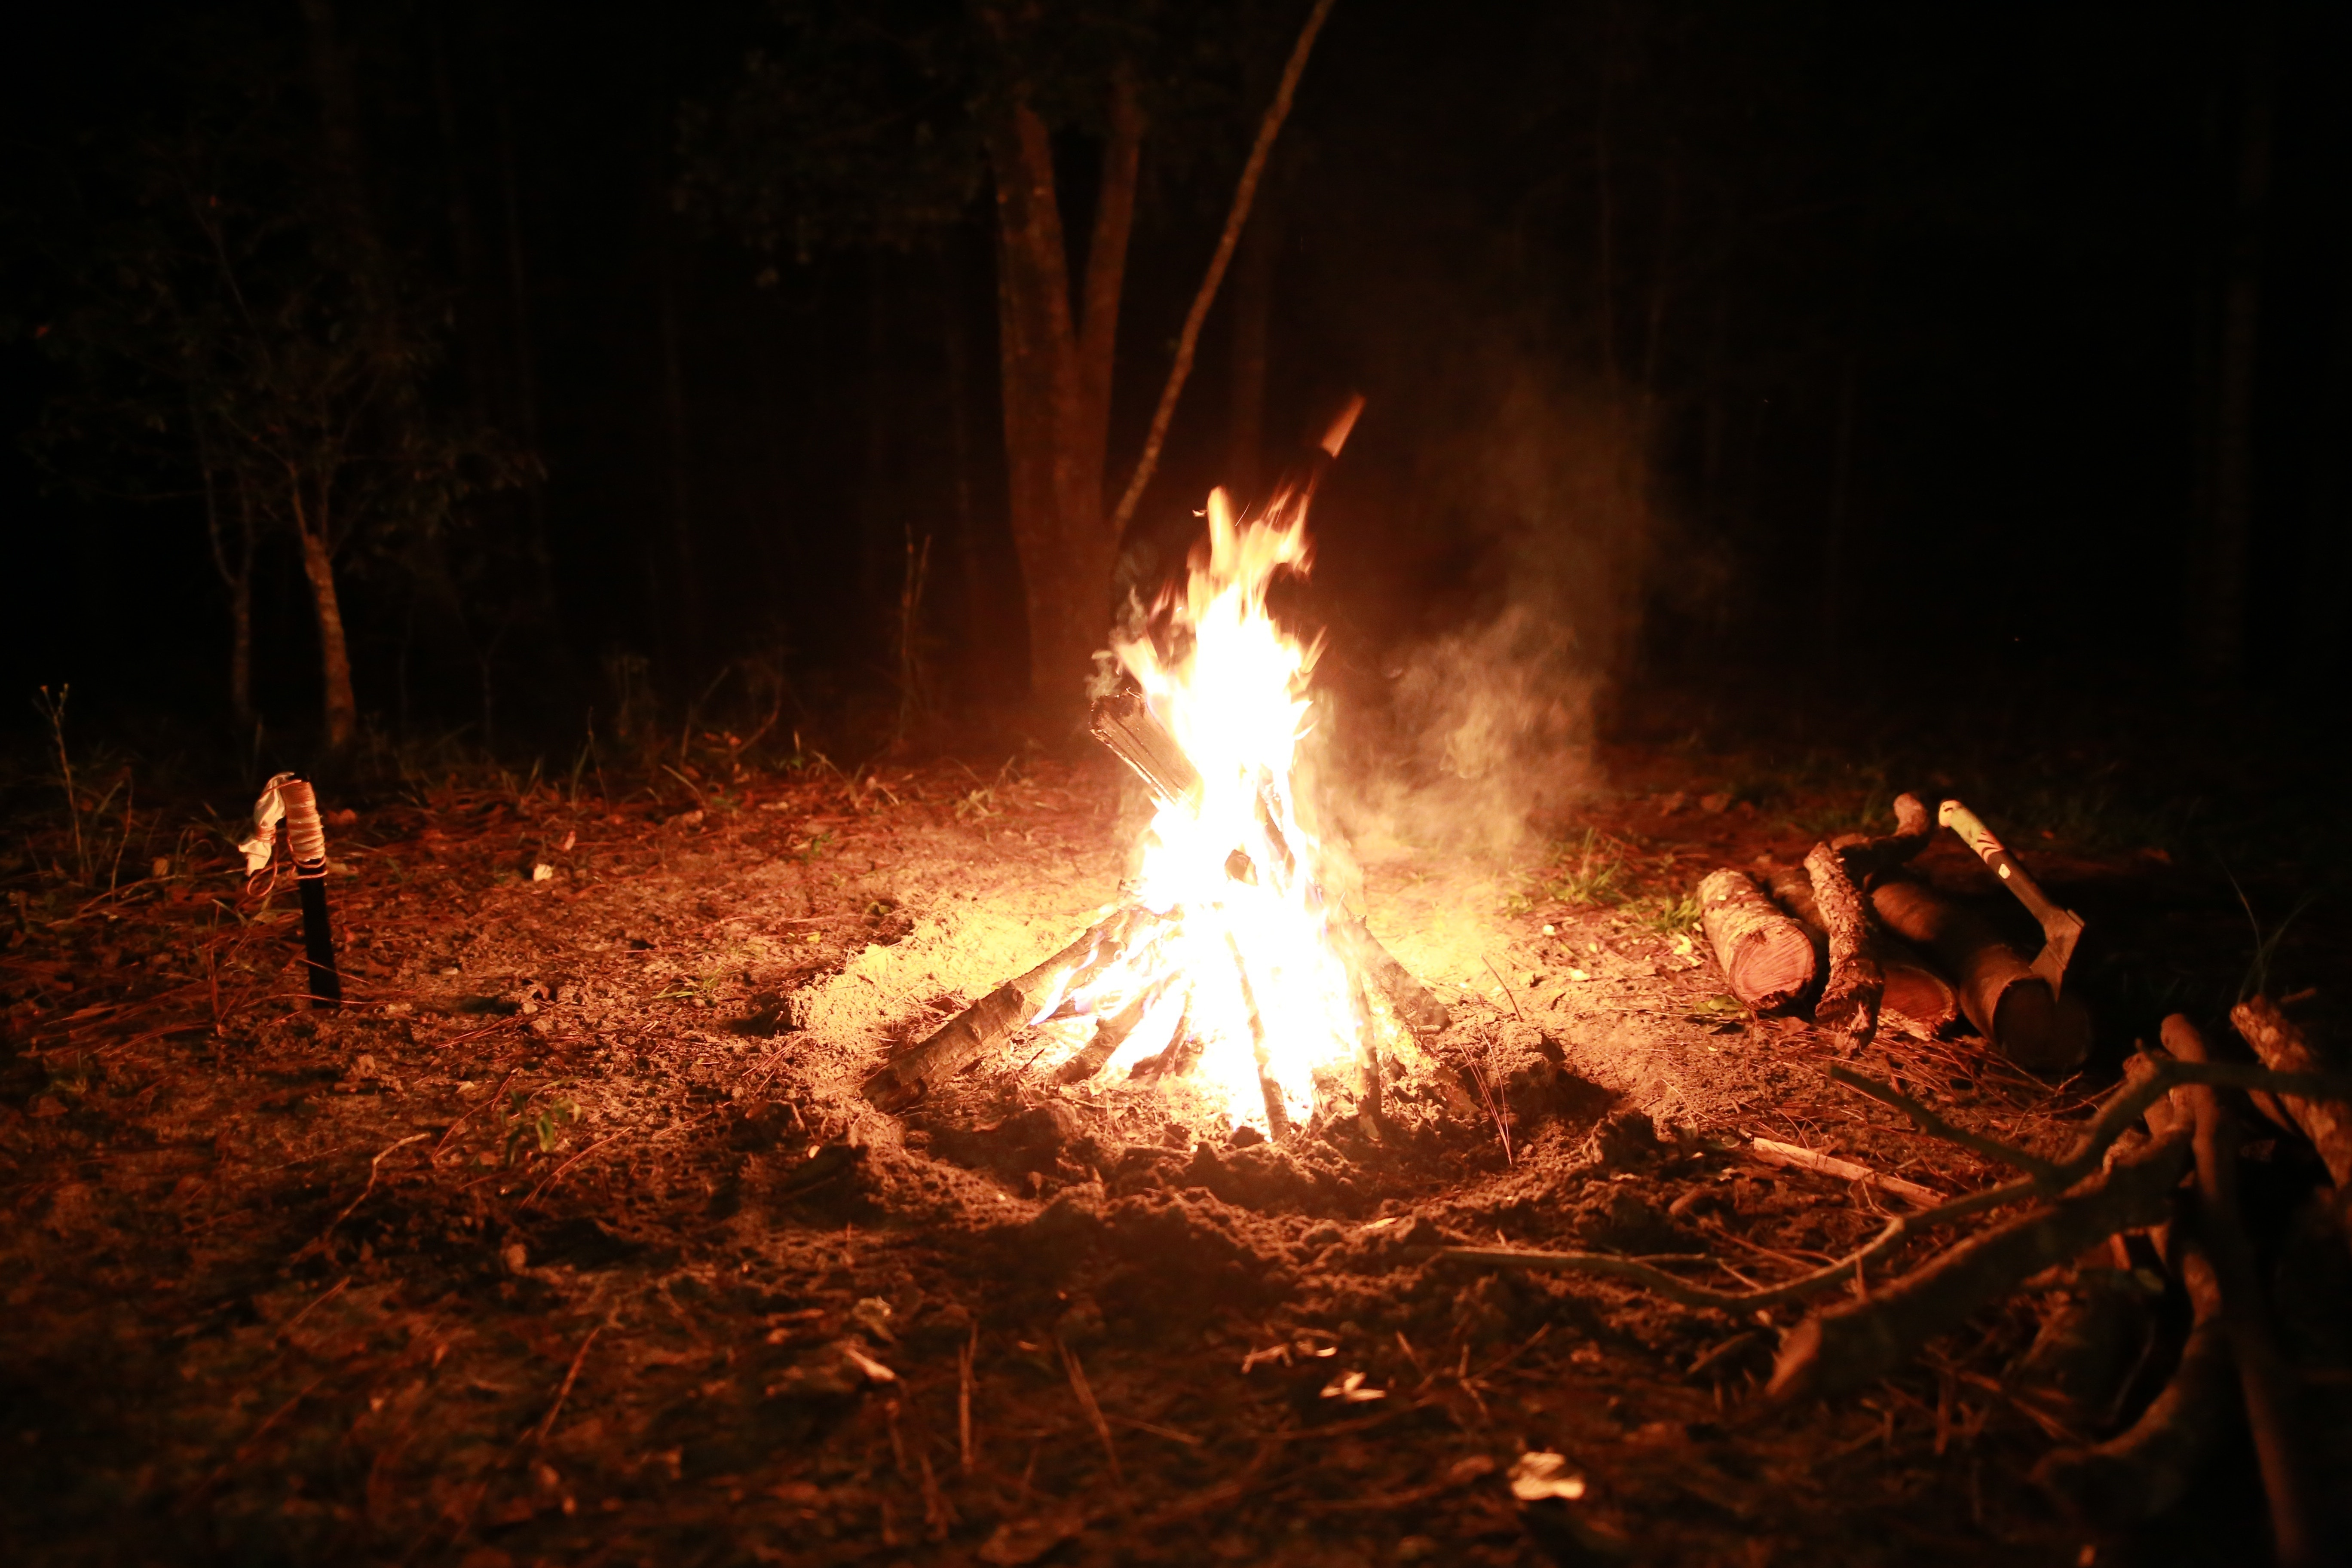fire: (1027, 462, 1417, 1134)
